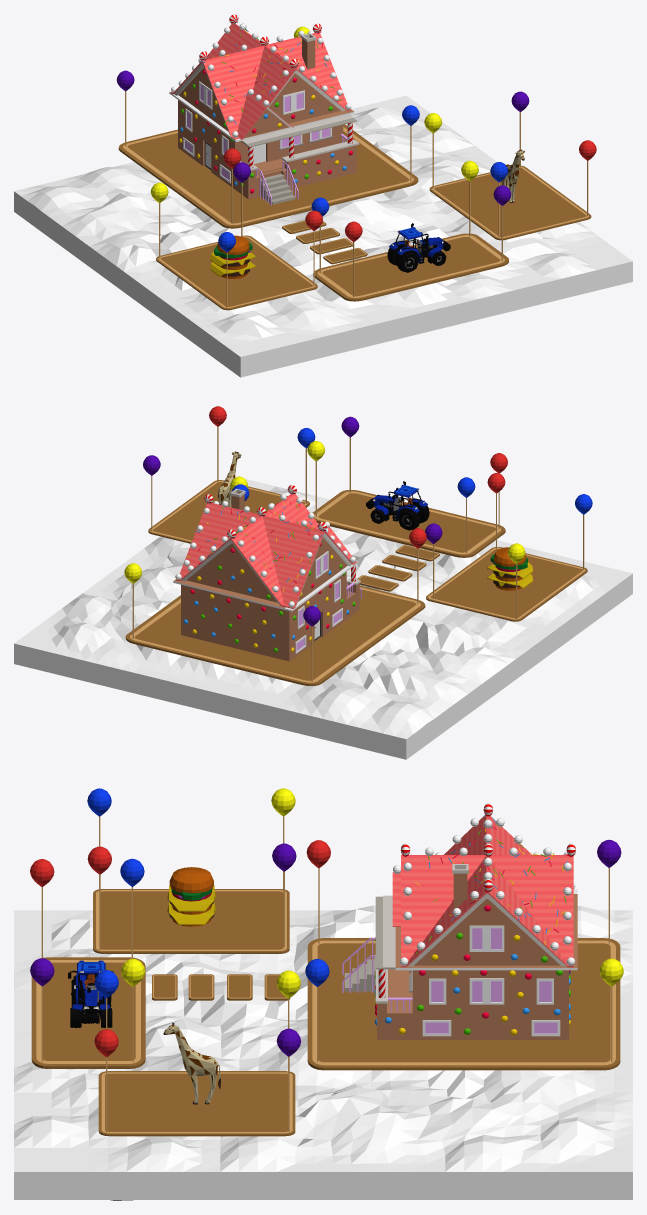
3 renders of one model, top to bottom at view 1: azimuth 30°, elevation 25°; view 2: azimuth 150°, elevation 25°; view 3: azimuth 270°, elevation 25°, orthographic. The views are drawn at different scales.
Visible parts, largest first — view 1: Cube.013, Cube.1203, VEHICLES_TRACTOR, OBJRANDOM_HAMBURGER, ANIMAL_JIRAFA; view 2: Cube.013, Cube.1203, VEHICLES_TRACTOR, OBJRANDOM_HAMBURGER, ANIMAL_JIRAFA; view 3: Cube.013, Cube.1203, OBJRANDOM_HAMBURGER, VEHICLES_TRACTOR, ANIMAL_JIRAFA.
Boxes of the visible parts, bbox=[...] form: Cube.013: bbox=[14, 26, 632, 377]; Cube.1203: bbox=[169, 14, 359, 205]; VEHICLES_TRACTOR: bbox=[387, 223, 450, 272]; OBJRANDOM_HAMBURGER: bbox=[210, 235, 256, 278]; ANIMAL_JIRAFA: bbox=[501, 149, 524, 203]; Cube.013: bbox=[14, 406, 632, 759]; Cube.1203: bbox=[173, 485, 361, 661]; VEHICLES_TRACTOR: bbox=[366, 481, 429, 530]; OBJRANDOM_HAMBURGER: bbox=[487, 547, 532, 590]; ANIMAL_JIRAFA: bbox=[218, 451, 241, 507]; Cube.013: bbox=[14, 788, 632, 1199]; Cube.1203: bbox=[342, 803, 577, 1039]; OBJRANDOM_HAMBURGER: bbox=[167, 867, 216, 926]; VEHICLES_TRACTOR: bbox=[68, 960, 113, 1027]; ANIMAL_JIRAFA: bbox=[163, 1022, 220, 1104].
Bounding box in the file's own units: 4000 × 1662 × 4000.
Materials: 44 (2 with a texture image).
